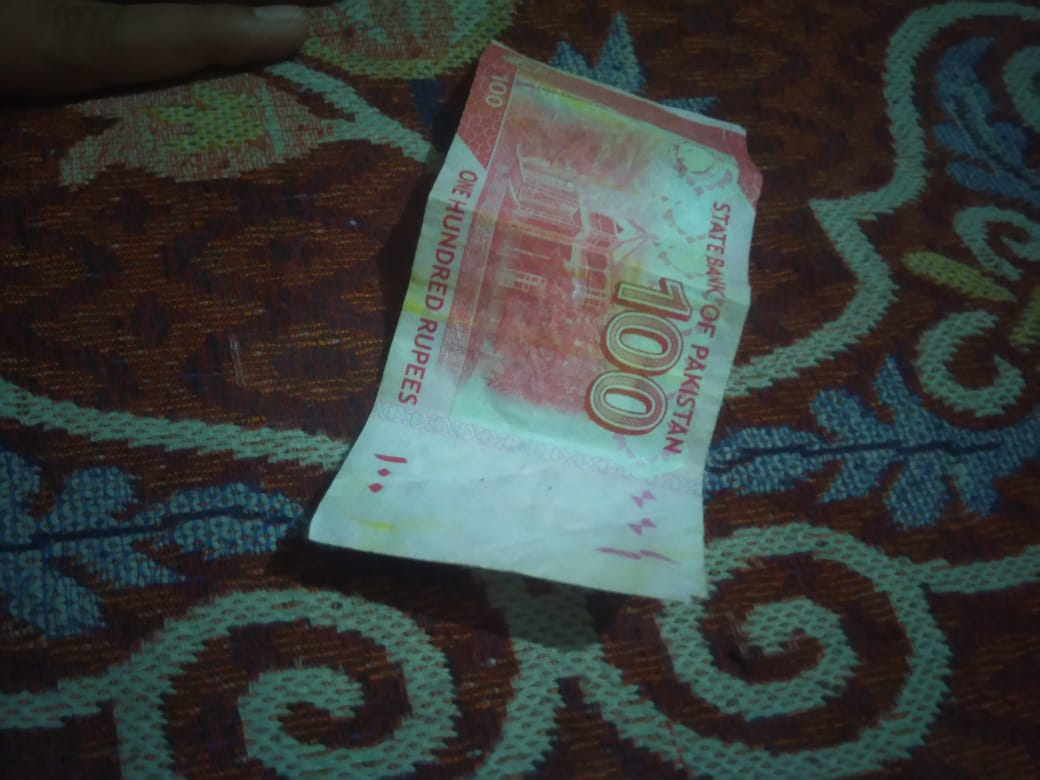100 rupee: (299, 33, 769, 606)
